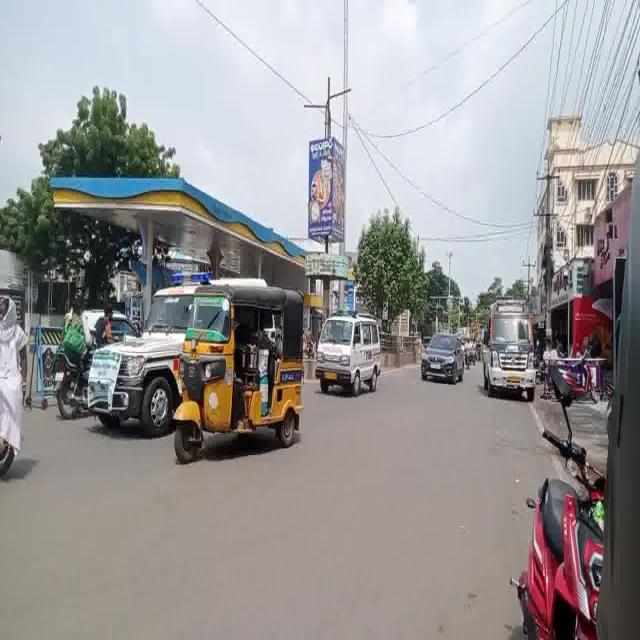ambulance: (77, 267, 204, 443), (482, 294, 547, 421)
